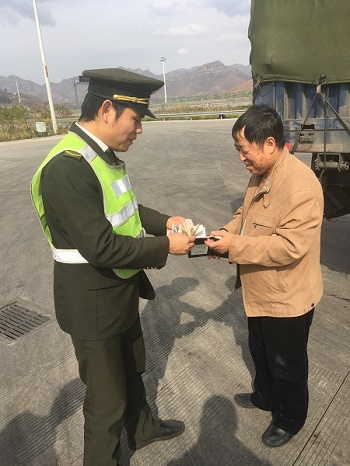other: (35, 56, 209, 451), (204, 102, 323, 454)
